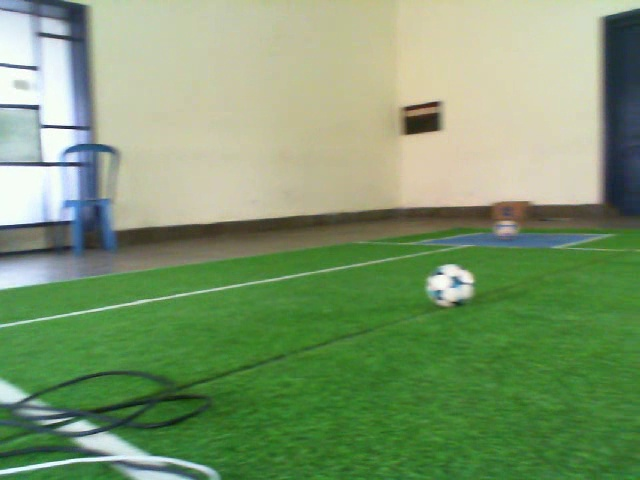ball: (425, 262, 477, 309)
